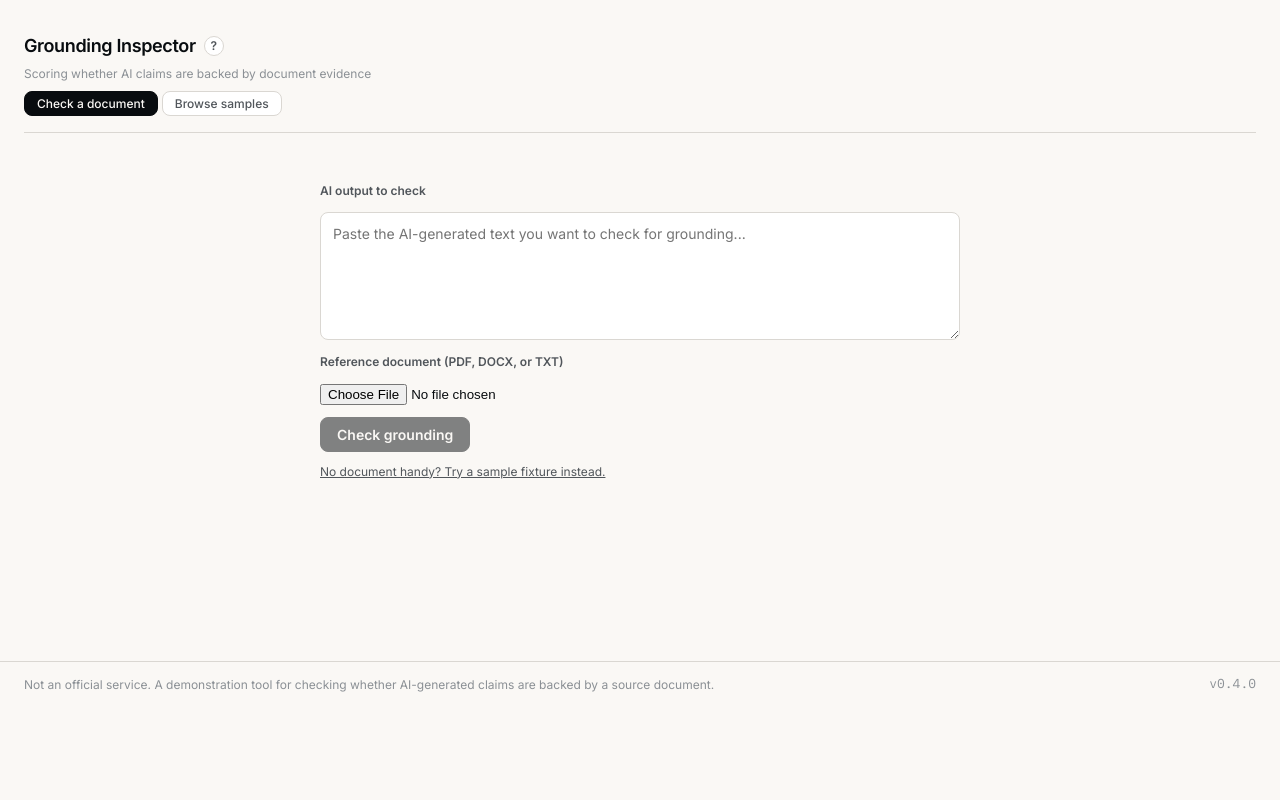
Scenario: header controls on the default upload view › opens the help modal with no result loaded
Step 1. Click the button with test id "help-button" → (214, 46), box 204,36 -> 224,56
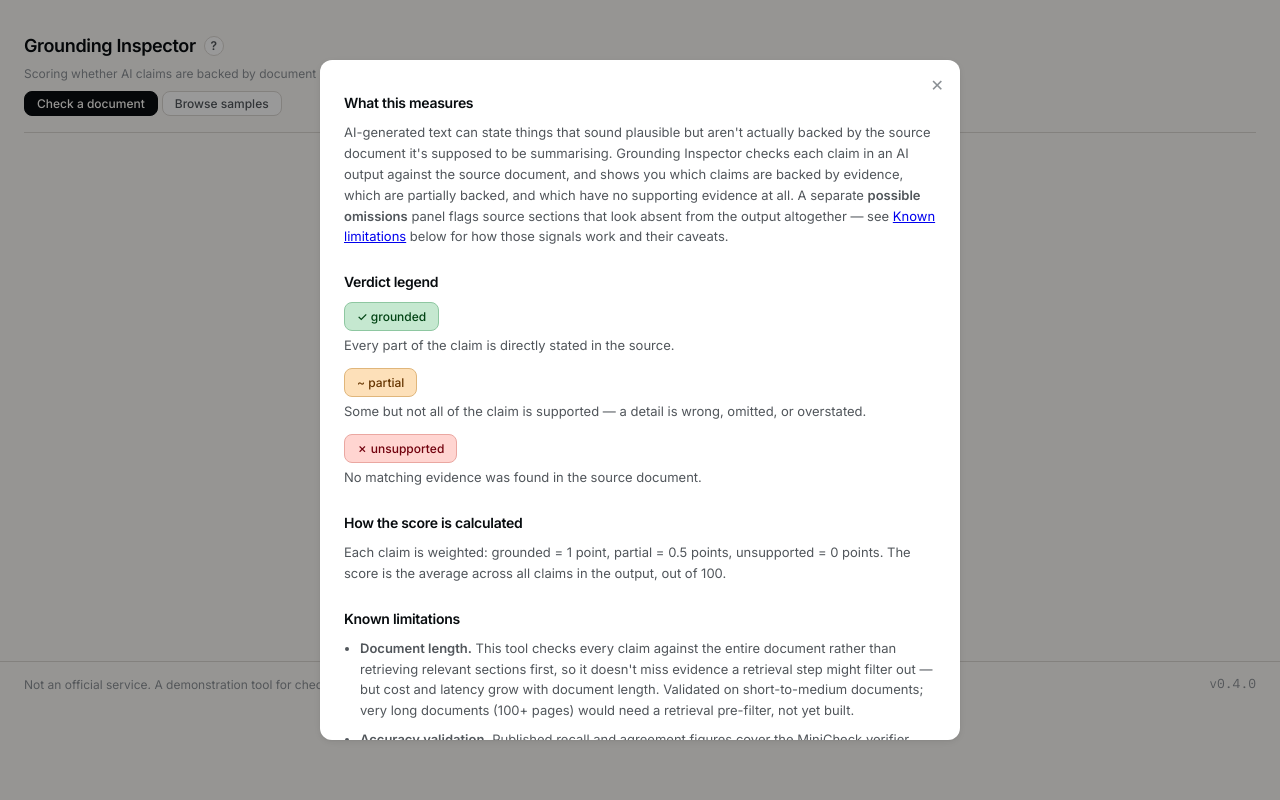
Expected: the element with test id "help-modal" is shown
